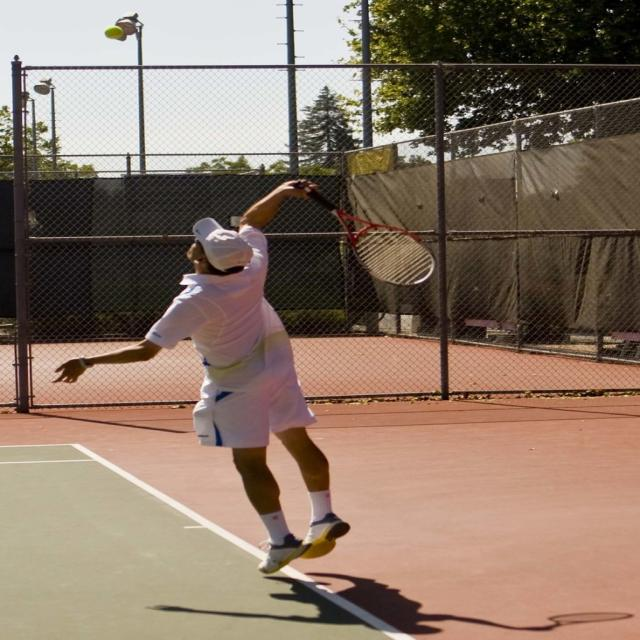Tennis ball: (105, 25, 121, 39)
